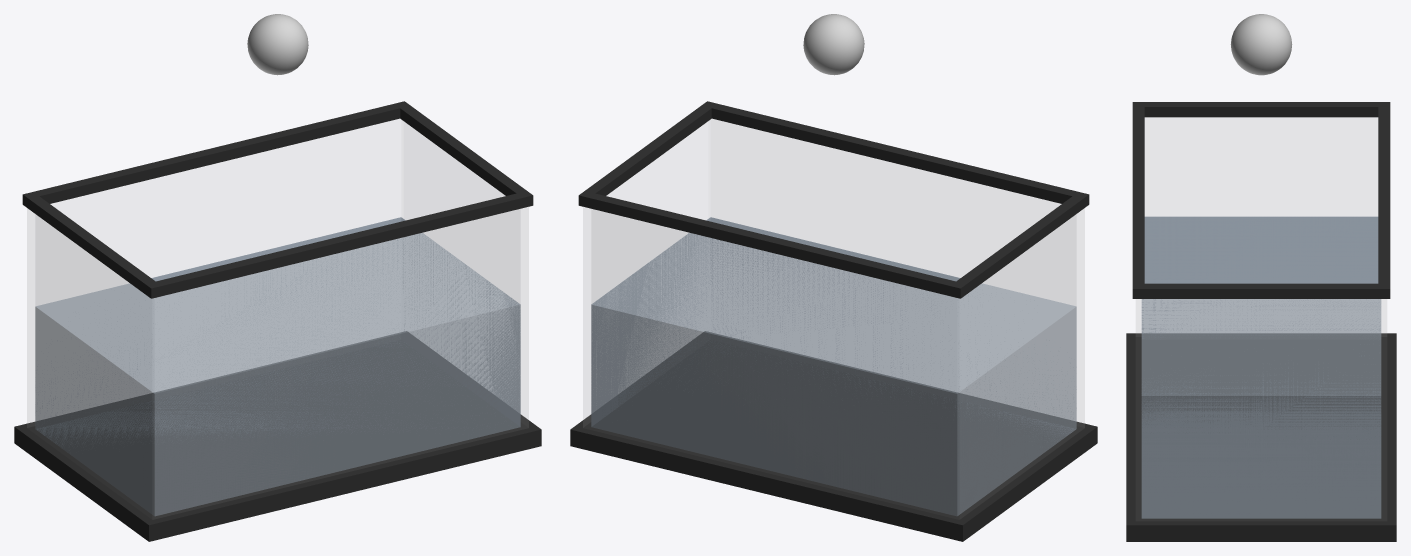
The model's file is Objetos.fbx.
3 renders of one model, left to right at view 1: azimuth 30°, elevation 25°; view 2: azimuth 150°, elevation 25°; view 3: azimuth 270°, elevation 25°, orthographic.
Visible parts, largest first — view 1: Aquario, Liquido, Esfera; view 2: Aquario, Liquido, Esfera; view 3: Aquario, Liquido, Esfera.
Boxes of the visible parts, bbox=[...] form: Aquario: bbox=[14, 101, 541, 541]; Liquido: bbox=[35, 217, 520, 516]; Esfera: bbox=[247, 14, 308, 75]; Aquario: bbox=[570, 101, 1097, 541]; Liquido: bbox=[591, 217, 1076, 516]; Esfera: bbox=[803, 14, 864, 75]; Aquario: bbox=[1126, 102, 1396, 541]; Liquido: bbox=[1141, 216, 1381, 518]; Esfera: bbox=[1230, 14, 1292, 75].
Size of the model in its own units: 74 by 77.08 by 44.
